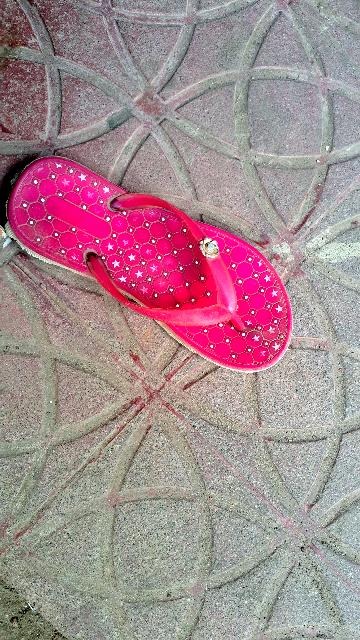sandal: (0, 137, 319, 382)
